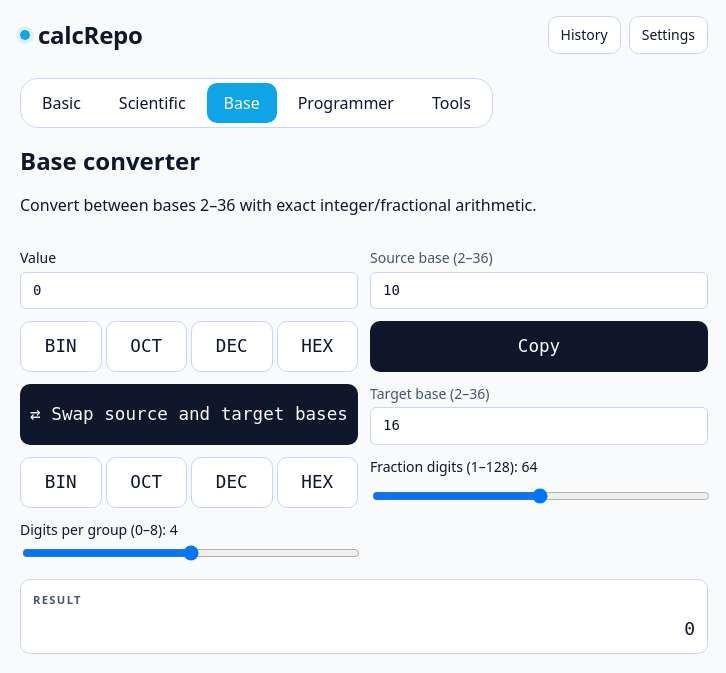
Test: BaseView › surfaces an error for invalid digits
The width and height of the screenshot is (726, 673).
Click the tab "Base": [242, 103] box [207,83,277,123]
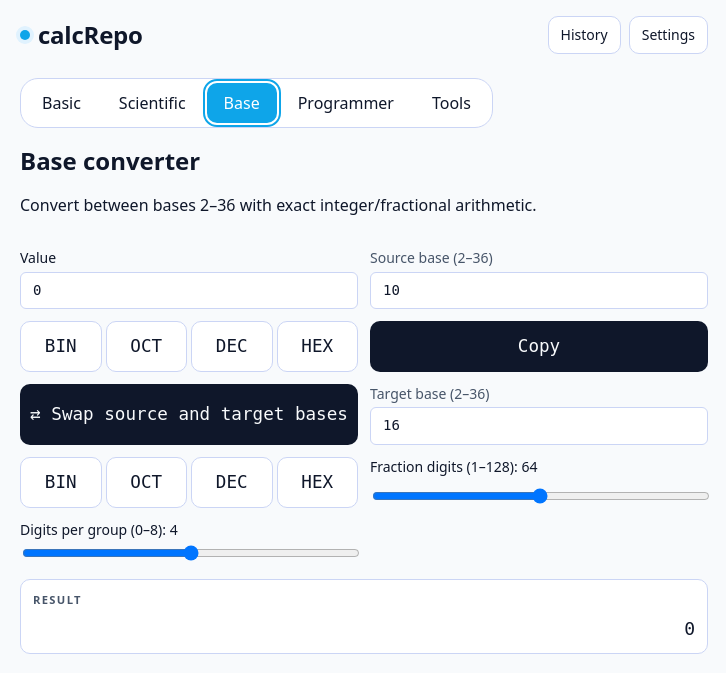
Click the 1st button "BIN": [61, 346] box [20,321,102,372]
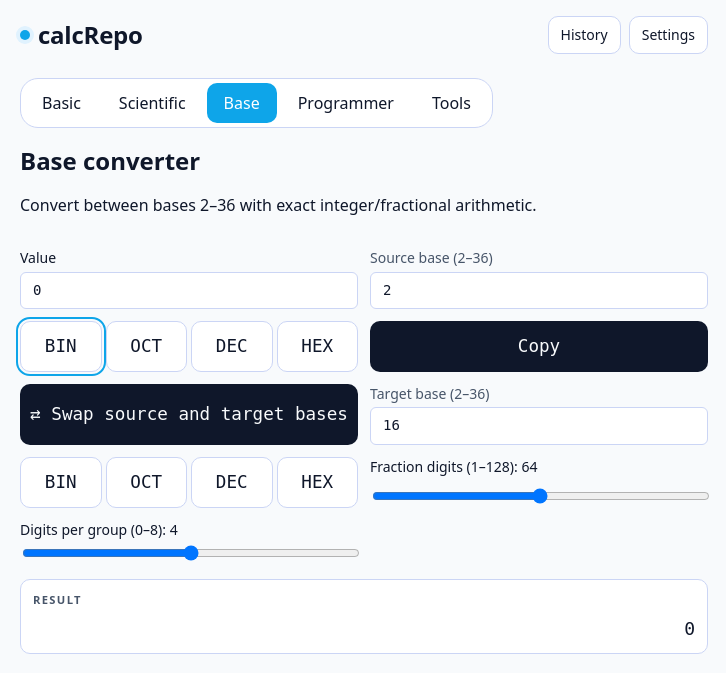
Replace the text in the field with test id "base-input" with "3": [189, 290] box [20,272,358,309]
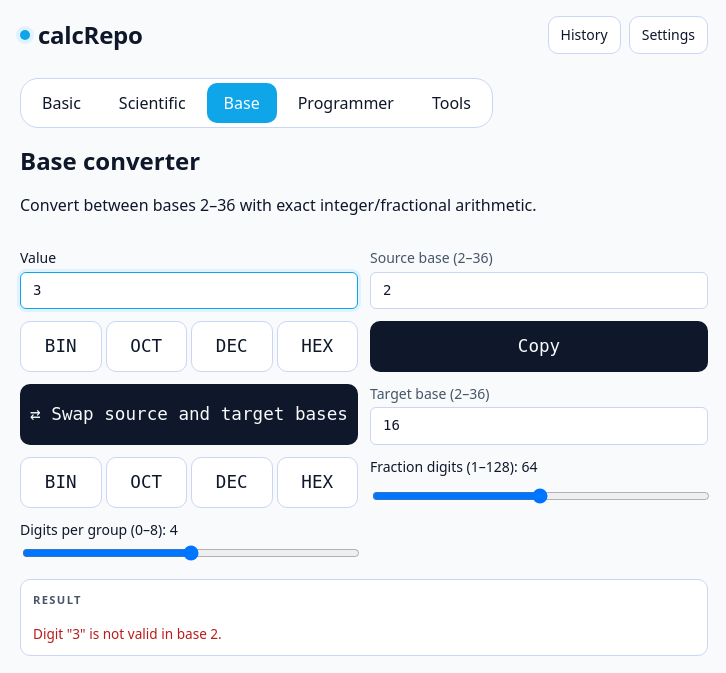
Expected: the message with test id "base-error" shows "not valid", [33,624,222,643]
